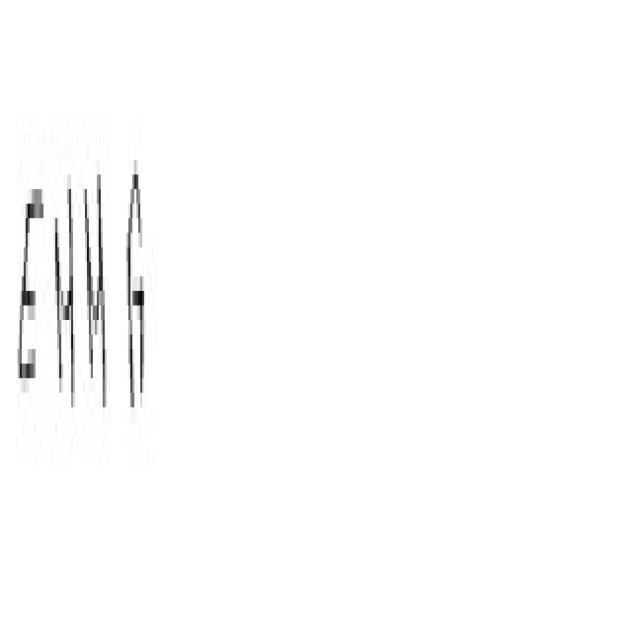E: (17, 110, 47, 537)
G: (121, 154, 156, 583)
M: (83, 160, 117, 596), (52, 122, 80, 562)
